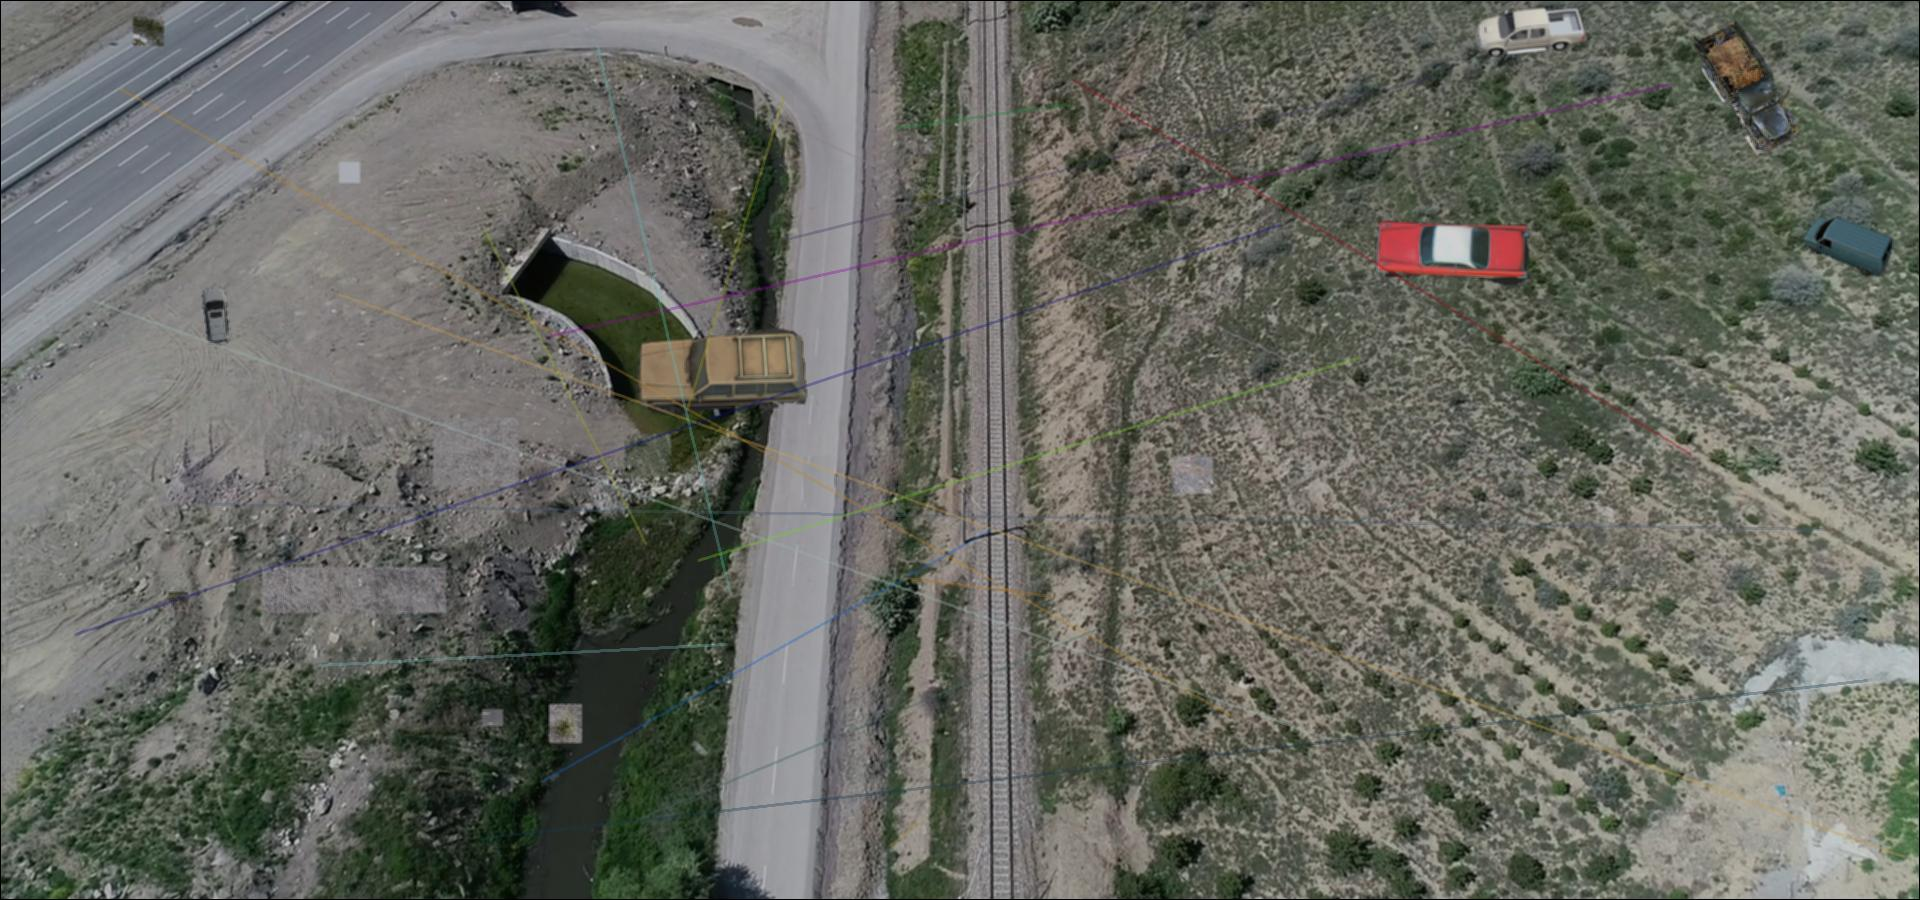arac: (636, 324, 812, 420), (1691, 18, 1799, 156), (1375, 219, 1536, 287), (1476, 2, 1589, 56), (1804, 216, 1894, 276), (200, 287, 231, 347)
